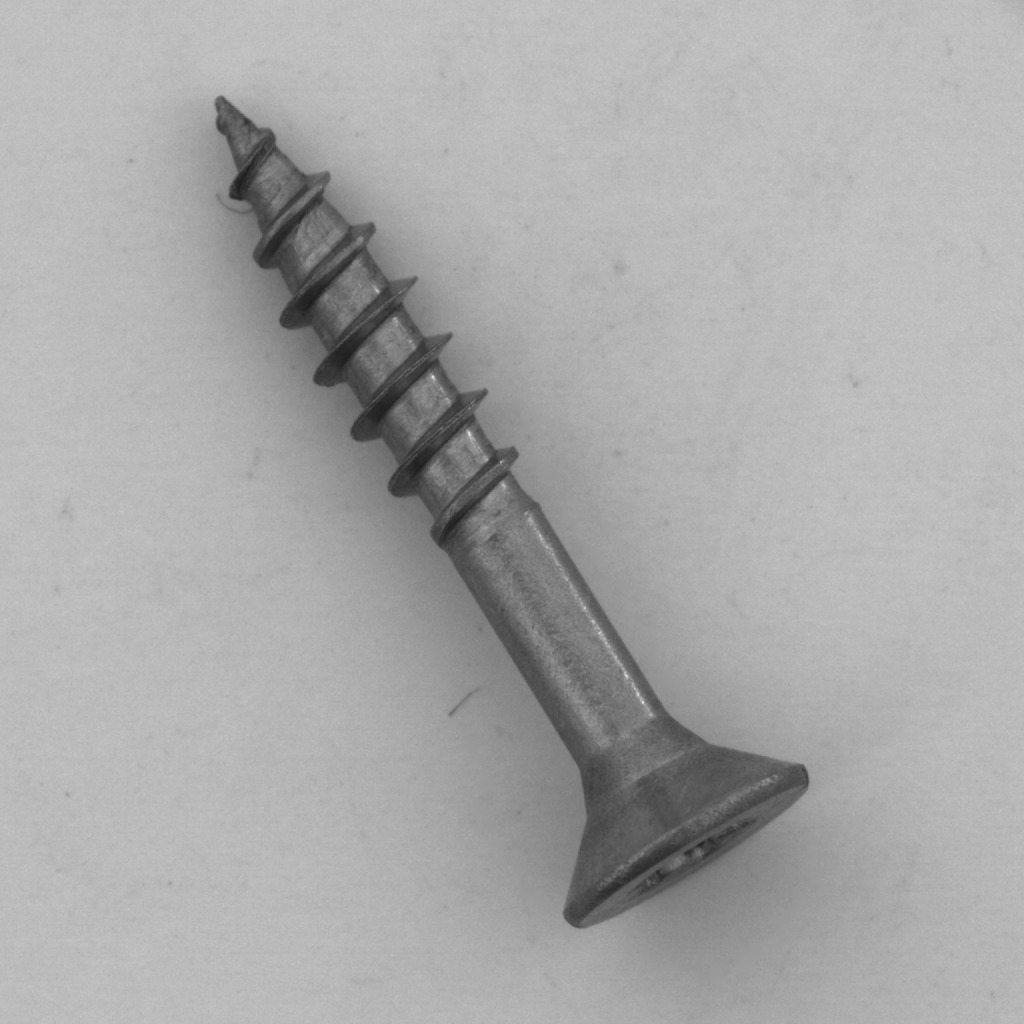good: (190, 62, 824, 949)
